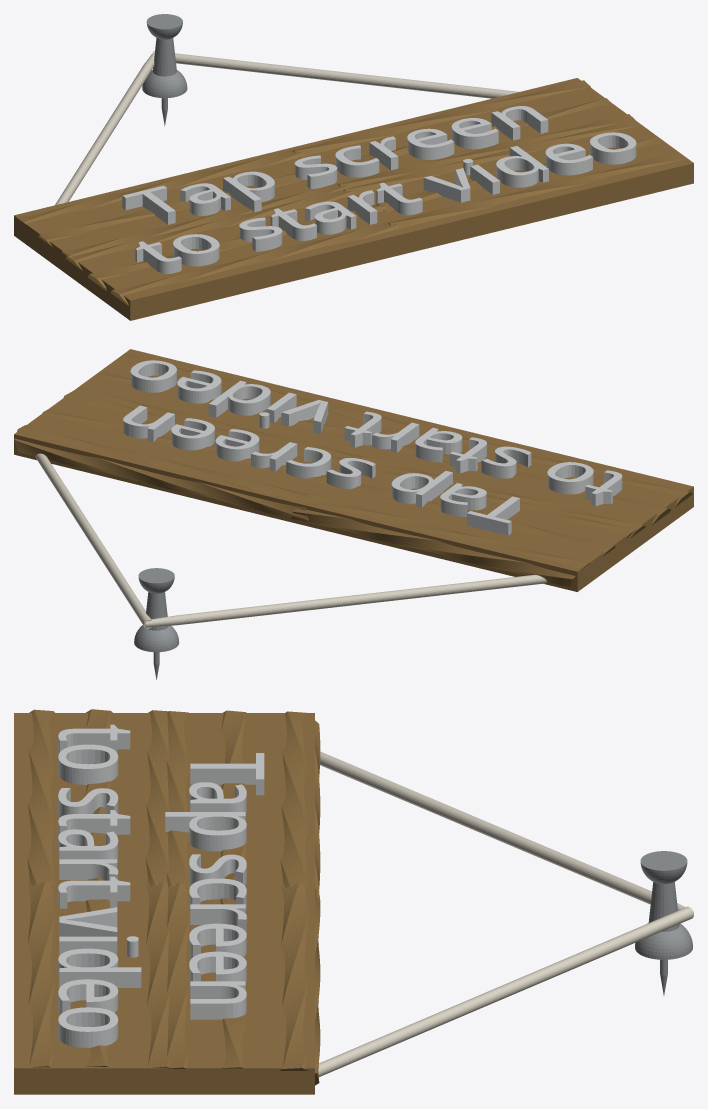
The model's file is SwingTag.glb.
3 views of the same model, one above another, from view 1: azimuth 30°, elevation 25°; view 2: azimuth 150°, elevation 25°; view 3: azimuth 270°, elevation 25° (orthographic). The views are drawn at different scales.
Parts seen in each view (by area): view 1: Mesh_Mesh_head_geo.001_lambert2SG.001; view 2: Mesh_Mesh_head_geo.001_lambert2SG.001; view 3: Mesh_Mesh_head_geo.001_lambert2SG.001.
Part boxes in pixels (left/top/right/bottom): Mesh_Mesh_head_geo.001_lambert2SG.001: left=14, top=14, right=693, bottom=320; Mesh_Mesh_head_geo.001_lambert2SG.001: left=14, top=349, right=693, bottom=679; Mesh_Mesh_head_geo.001_lambert2SG.001: left=14, top=709, right=693, bottom=1094.
Size of the model in its own units: 81.8 by 14.44 by 65.5.
